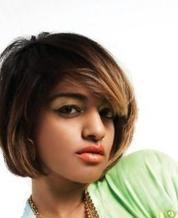face: (54, 96, 117, 163)
